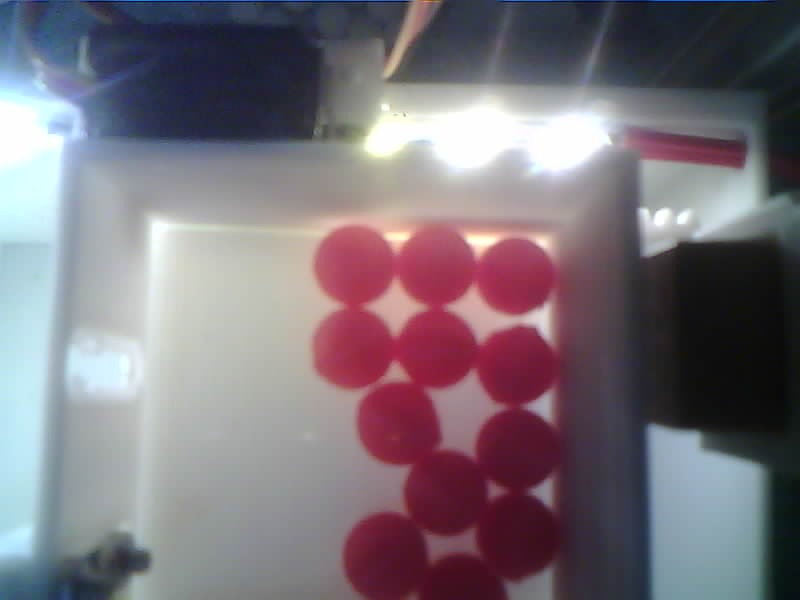Plastic: (472, 495, 564, 582), (344, 515, 425, 600), (405, 452, 484, 536), (477, 412, 558, 491), (312, 309, 392, 388), (398, 312, 476, 388), (480, 329, 557, 405), (314, 228, 391, 302), (478, 236, 550, 313), (358, 389, 440, 456), (400, 232, 473, 304), (422, 556, 513, 600)
